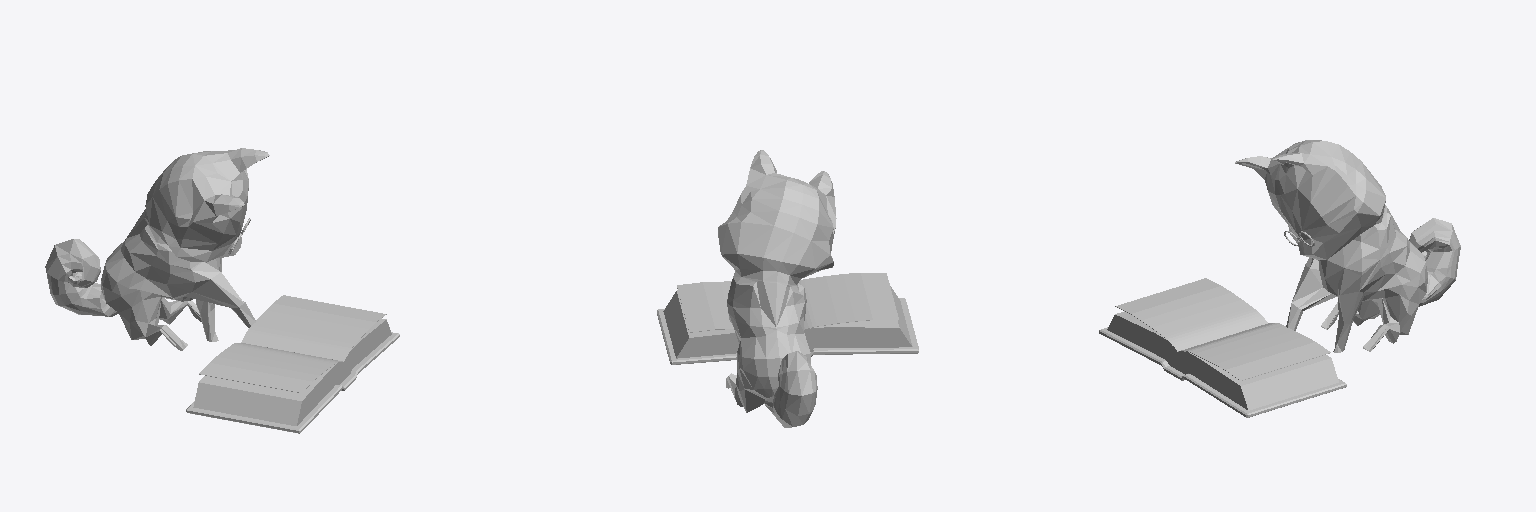
File: book_frame40.obj
The picture shows the model from 3 angles: view 1: azimuth 30°, elevation 25°; view 2: azimuth 150°, elevation 25°; view 3: azimuth 270°, elevation 25°; orthographic projection.
Visible parts, largest first — view 1: StidyGlasses_Computer_Sitting:Sitting:newRigging:BodzL1, polySurface1; view 2: StidyGlasses_Computer_Sitting:Sitting:newRigging:BodzL1, polySurface1; view 3: StidyGlasses_Computer_Sitting:Sitting:newRigging:BodzL1, polySurface1.
Boxes of the visible parts, x1=… form: StidyGlasses_Computer_Sitting:Sitting:newRigging:BodzL1: x1=45, y1=148, x2=269, y2=350; polySurface1: x1=186, y1=295, x2=399, y2=433; StidyGlasses_Computer_Sitting:Sitting:newRigging:BodzL1: x1=718, y1=150, x2=836, y2=427; polySurface1: x1=657, y1=273, x2=918, y2=364; StidyGlasses_Computer_Sitting:Sitting:newRigging:BodzL1: x1=1235, y1=140, x2=1460, y2=352; polySurface1: x1=1099, y1=278, x2=1346, y2=417.
Bounding box in the file's own units: 9.07 × 6.99 × 11.17.